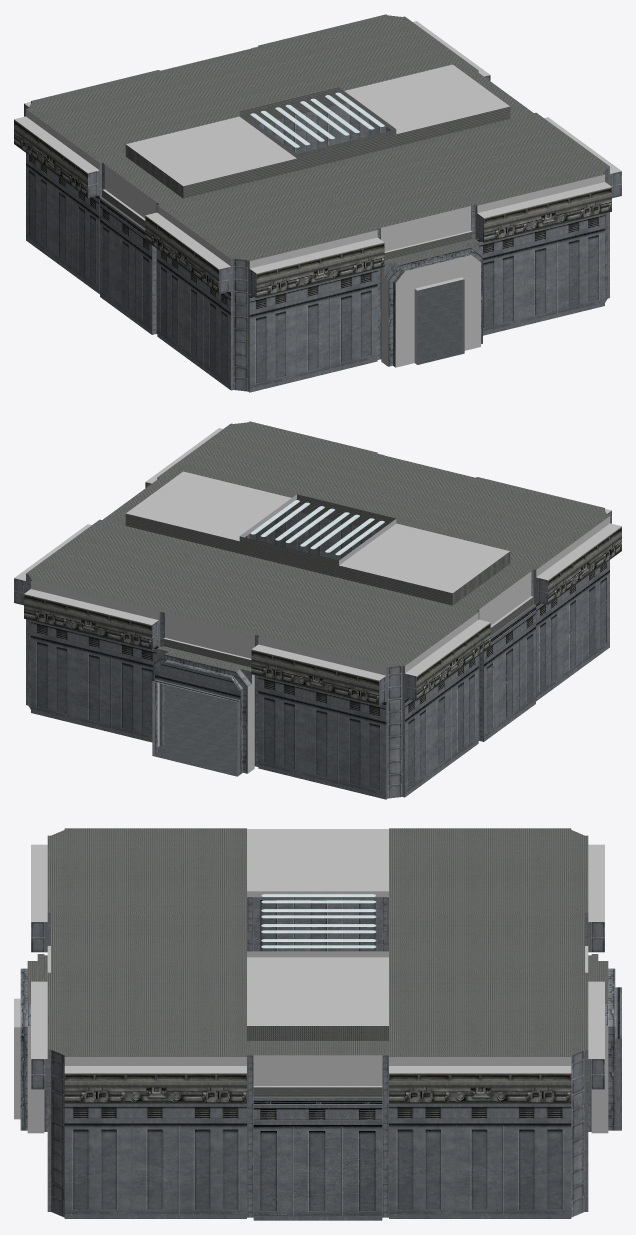
The model's file is poi_all_impl_bunker_warren_s01_r21_smallroom21_mesh_r21.fbx.
3 renders of one model, top to bottom at view 1: azimuth 30°, elevation 25°; view 2: azimuth 150°, elevation 25°; view 3: azimuth 270°, elevation 25°, orthographic. The views are drawn at different scales.
Visible parts, largest first — view 1: mesh_node; view 2: mesh_node; view 3: mesh_node.
Part boxes in pixels (<box>): mesh_node: <box>14,14,621,392</box>; mesh_node: <box>14,421,621,799</box>; mesh_node: <box>14,828,621,1220</box>.
Bounding box in the file's own units: 17 × 6 × 18.
